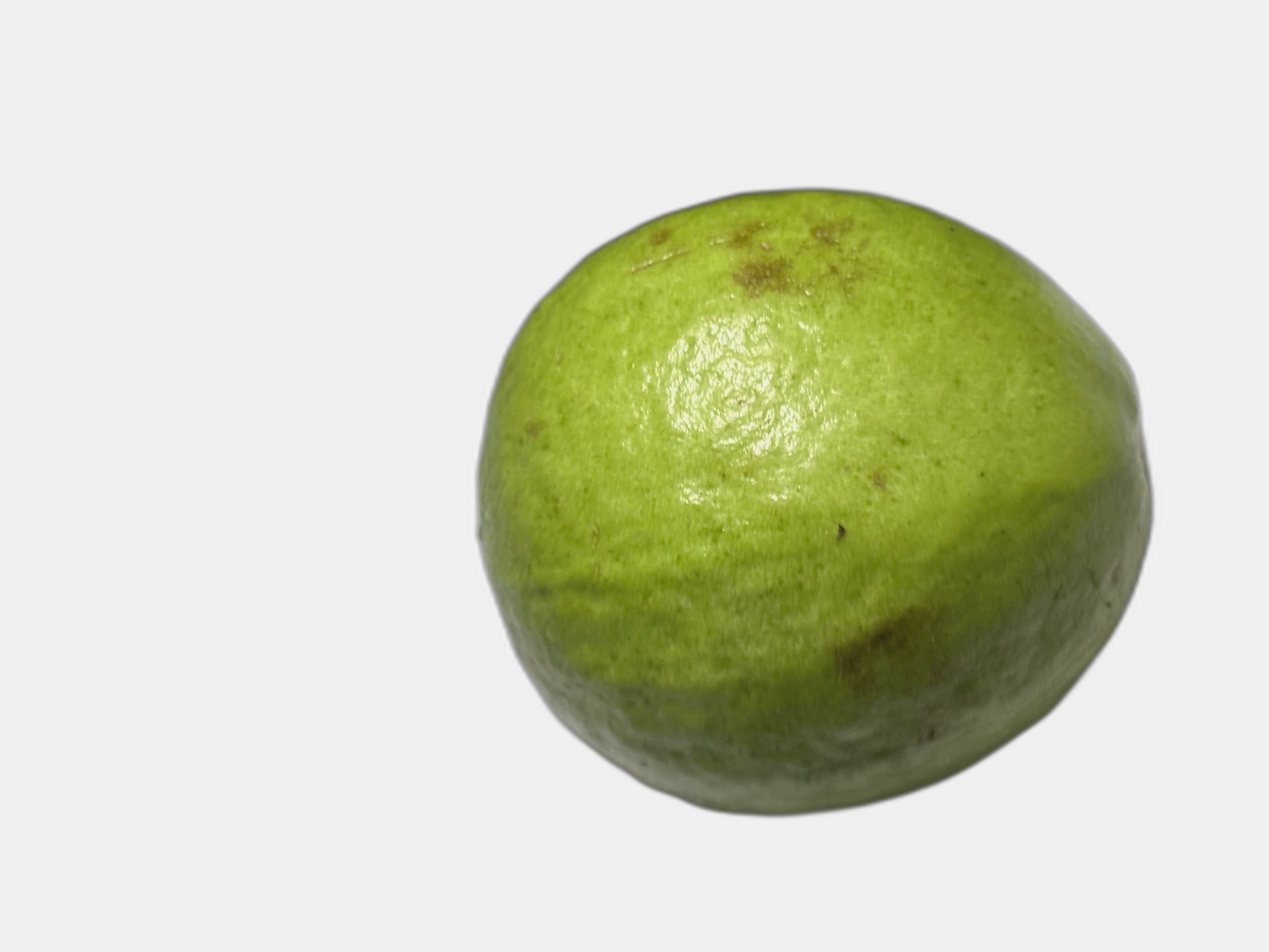guava: (158, 184, 1218, 833)
